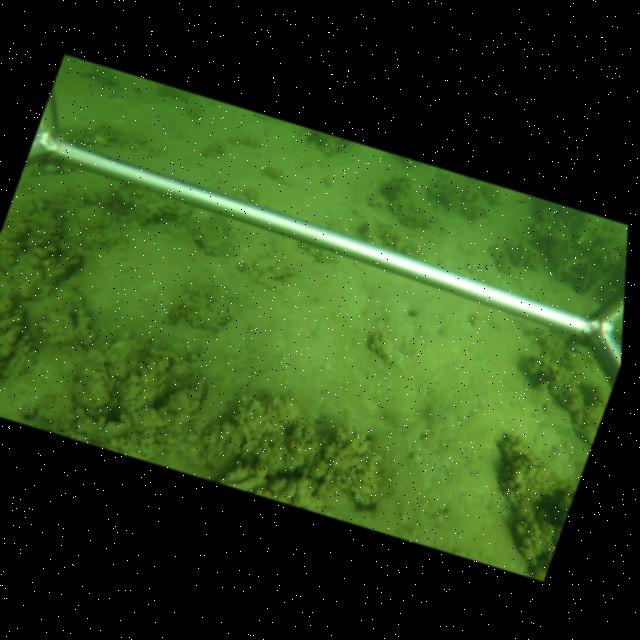Oyster-Closed: (370, 324, 401, 368), (219, 474, 269, 493), (363, 216, 382, 243), (41, 269, 65, 279)
Oyster-Indeterminate: (114, 353, 176, 413)
Oyster-Open: (194, 375, 214, 414)
